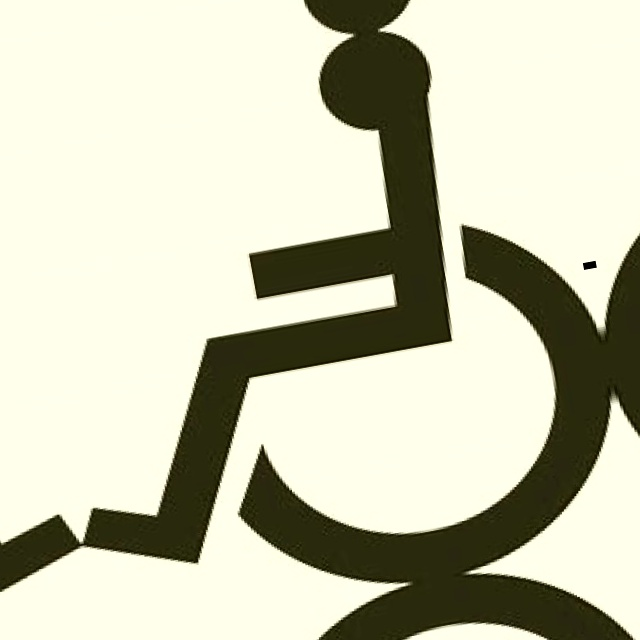ISA: (0, 0, 640, 640), (0, 0, 542, 98), (0, 98, 98, 640), (542, 0, 640, 542), (98, 542, 640, 640)
